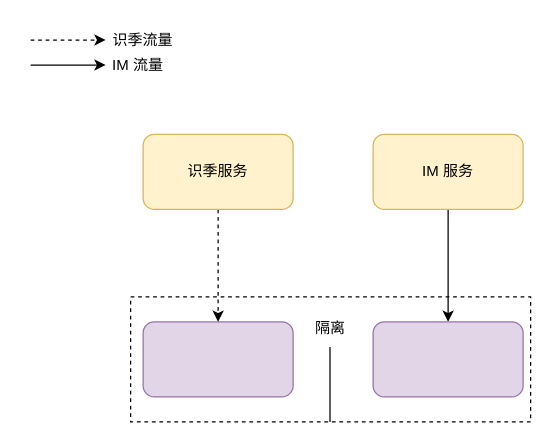
Some shapes in this 553 by 445 pixel diagram are drawn without their labels. Here are the shapes that lost their labels. From the top down, the centre of each, then its label:
pixel 217 359: 中台服务 （识季独享）
pixel 447 359: 中台服务 （IM 独享）
